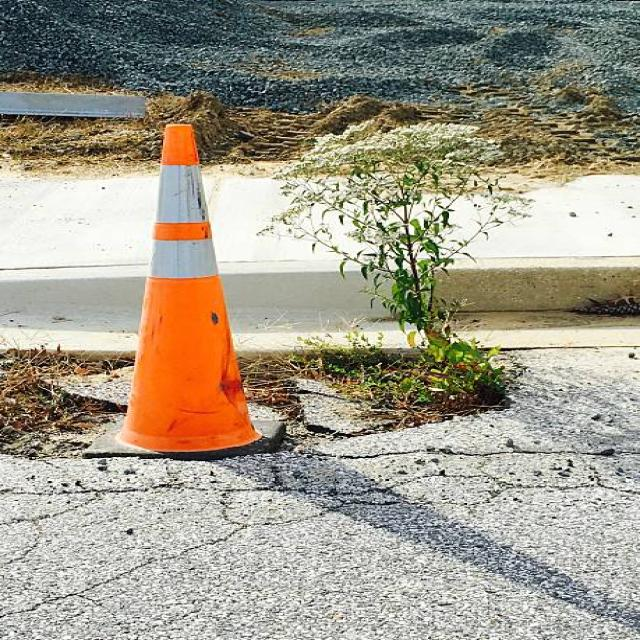Traffic Cone: (49, 105, 283, 442)
